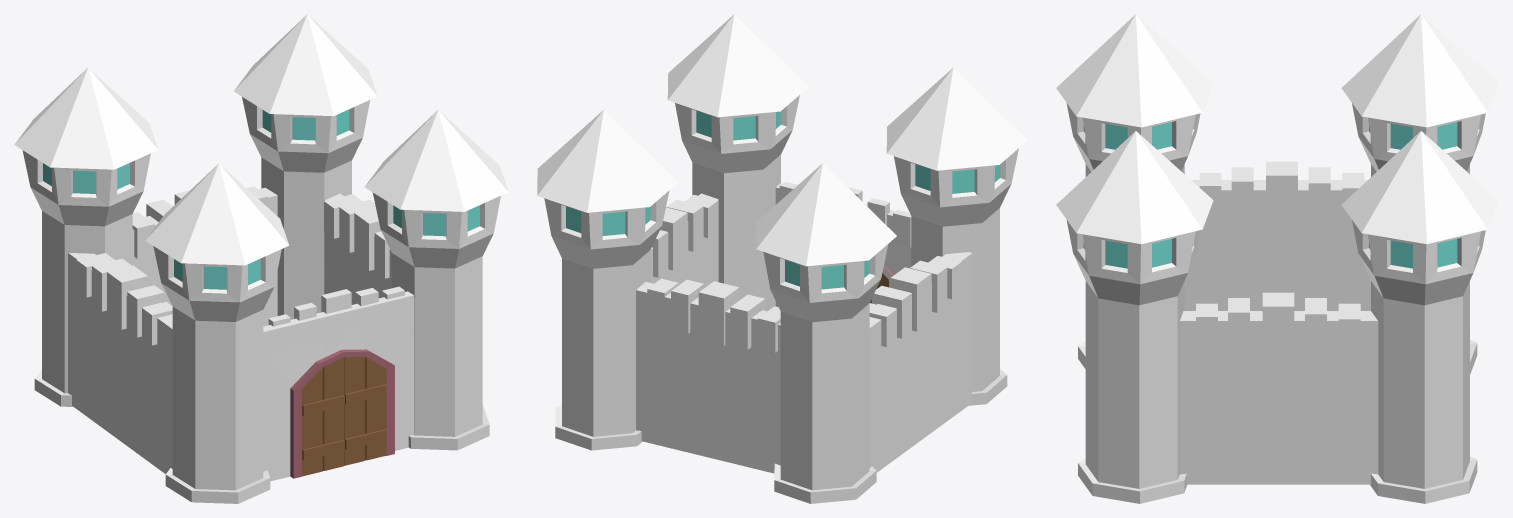
The model's file is castle_full_version.fbx.
The picture shows the model from 3 angles, left to right: view 1: azimuth 30°, elevation 25°; view 2: azimuth 150°, elevation 25°; view 3: azimuth 270°, elevation 25°; orthographic projection. The views are drawn at different scales.
Visible parts, largest first — view 1: Castle_3_lvl_mat14, Castle_3_lvl_mat15, pCube3, pCube2, Castle_gate_3_1_mat, Castle_gate_3_2_mat, pCube4; view 2: Castle_3_lvl_mat15, Castle_3_lvl_mat14, pCube4, pCube3, pCube2; view 3: Castle_3_lvl_mat14, Castle_3_lvl_mat15, pCube2, pCube3.
Part boxes in pixels (x1,y1,x2,y2): Castle_3_lvl_mat14: (145,110,508,503); Castle_3_lvl_mat15: (14,14,377,406); pCube3: (68,253,172,473); pCube2: (324,193,391,304); Castle_gate_3_1_mat: (301,357,344,476); Castle_gate_3_2_mat: (344,357,386,465); pCube4: (132,186,277,326); Castle_3_lvl_mat15: (537,110,896,503); Castle_3_lvl_mat14: (667,14,1027,405); pCube4: (636,278,780,473); pCube3: (869,252,972,472); pCube2: (650,193,718,287); Castle_3_lvl_mat14: (1056,14,1213,503); Castle_3_lvl_mat15: (1341,14,1498,503); pCube2: (1179,292,1378,484); pCube3: (1184,161,1370,310).
Bounding box in the file's own units: 506 × 450 × 518.
